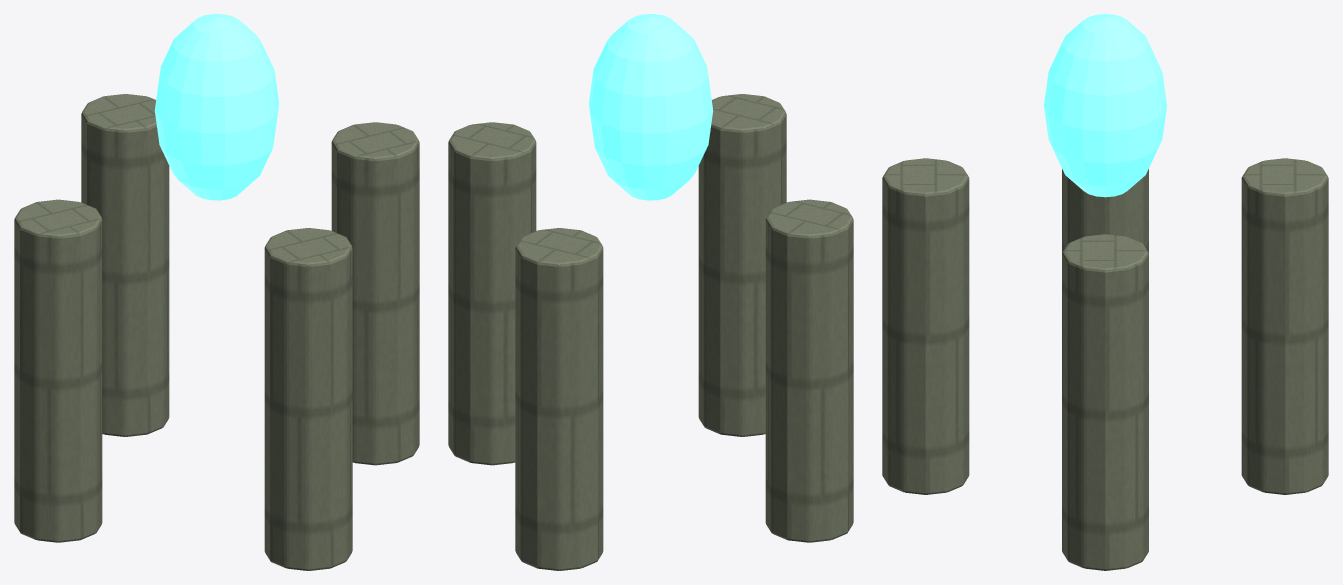
File: shrine.glb
3 views of the same model, side by side, from view 1: azimuth 30°, elevation 25°; view 2: azimuth 150°, elevation 25°; view 3: azimuth 270°, elevation 25° (orthographic).
Visible parts, largest first — view 1: pillar.002, pillar.003, pillar, pillar.001, rune; view 2: pillar.002, pillar.001, pillar, pillar.003, rune; view 3: pillar.001, pillar.003, pillar, rune, pillar.002.
Part boxes in pixels (bbox=[...]): pillar.002: bbox=[14, 199, 102, 542]; pillar.003: bbox=[264, 228, 352, 570]; pillar: bbox=[331, 122, 419, 465]; pillar.001: bbox=[81, 94, 169, 436]; rune: bbox=[154, 14, 279, 200]; pillar.002: bbox=[765, 199, 853, 542]; pillar.001: bbox=[515, 228, 603, 570]; pillar: bbox=[448, 122, 536, 465]; pillar.003: bbox=[698, 94, 786, 436]; rune: bbox=[588, 14, 713, 200]; pillar.001: bbox=[1241, 158, 1328, 494]; pillar.003: bbox=[882, 158, 969, 494]; pillar: bbox=[1062, 234, 1148, 570]; rune: bbox=[1044, 14, 1166, 197]; pillar.002: bbox=[1062, 169, 1148, 253].
Bounding box in the file's own units: 1.74 × 1.98 × 1.74.
2 materials, 1 textured.
